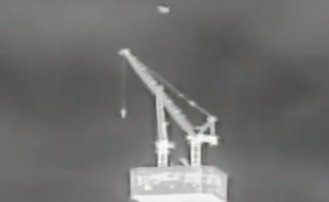Target: (158, 6, 168, 13)
